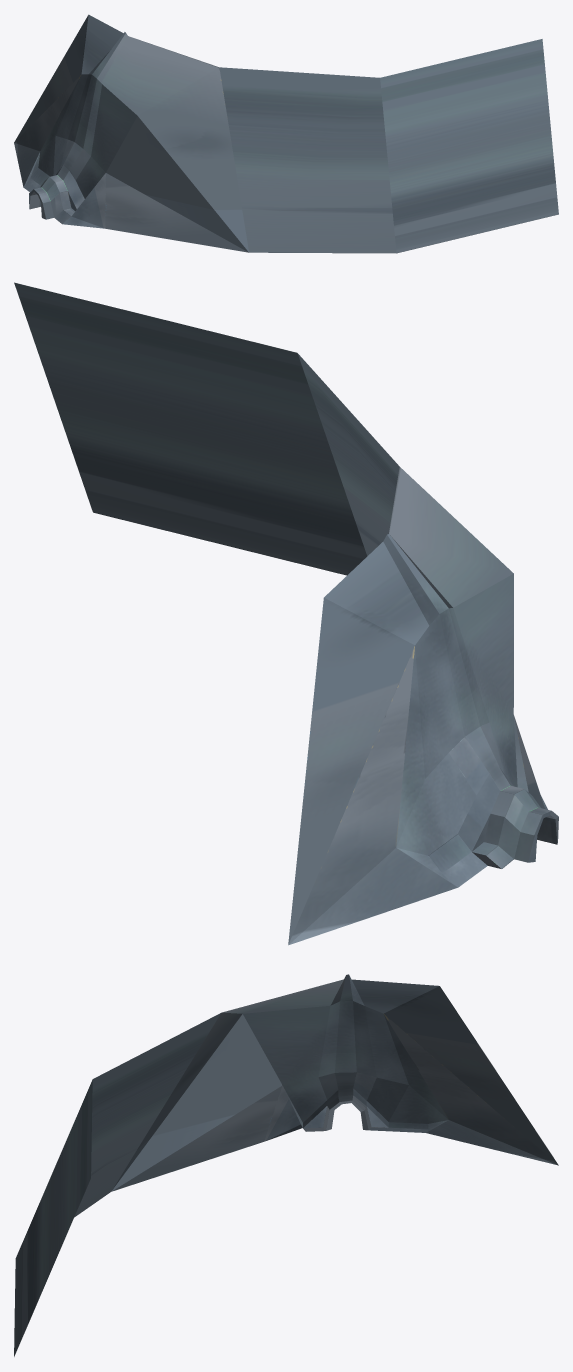
The model's file is cave2.fbx.
3 renders of one model, top to bottom at view 1: azimuth 30°, elevation 25°; view 2: azimuth 150°, elevation 25°; view 3: azimuth 270°, elevation 25°, orthographic. The views are drawn at different scales.
Visible parts, largest first — view 1: tube; view 2: tube; view 3: tube.
Part boxes in pixels (x1,y1,x2,y2): tube: [14, 14, 558, 253]; tube: [14, 282, 558, 945]; tube: [14, 974, 558, 1356].
Size of the model in its own units: 316 by 124 by 293.
